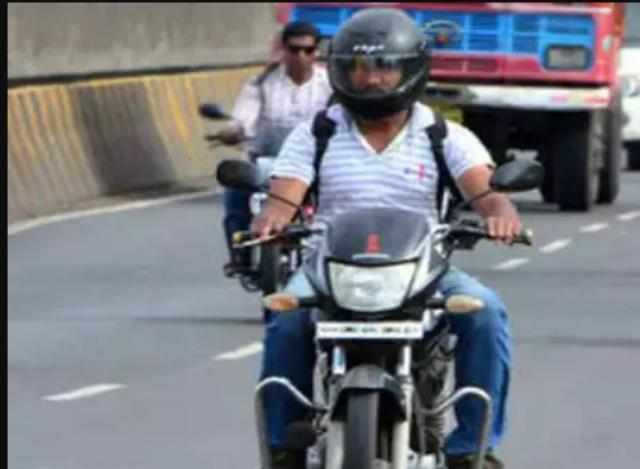licensePlate: (318, 321, 428, 343)
motorcycle: (253, 7, 517, 469)
withHelmet: (336, 15, 437, 111)
